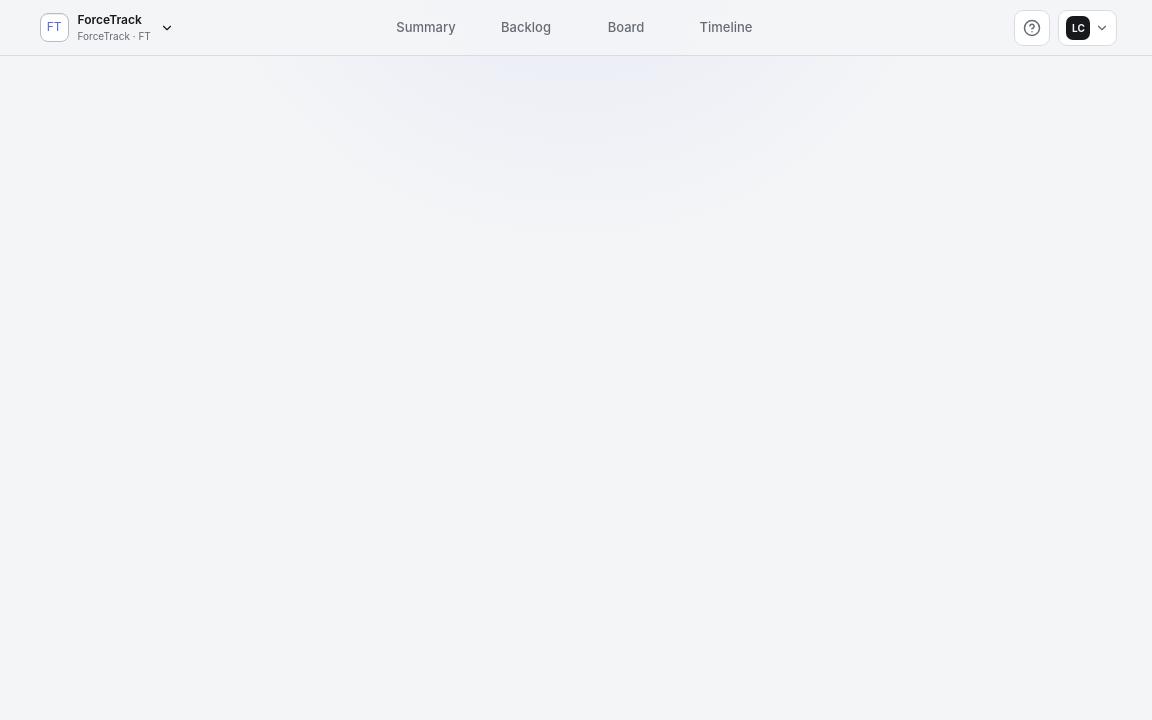
Test: App shell › navigates between Board and Timeline with an active link
Step 1. Click the link "Timeline" → [726, 27], box left=700, top=19, right=752, bottom=35
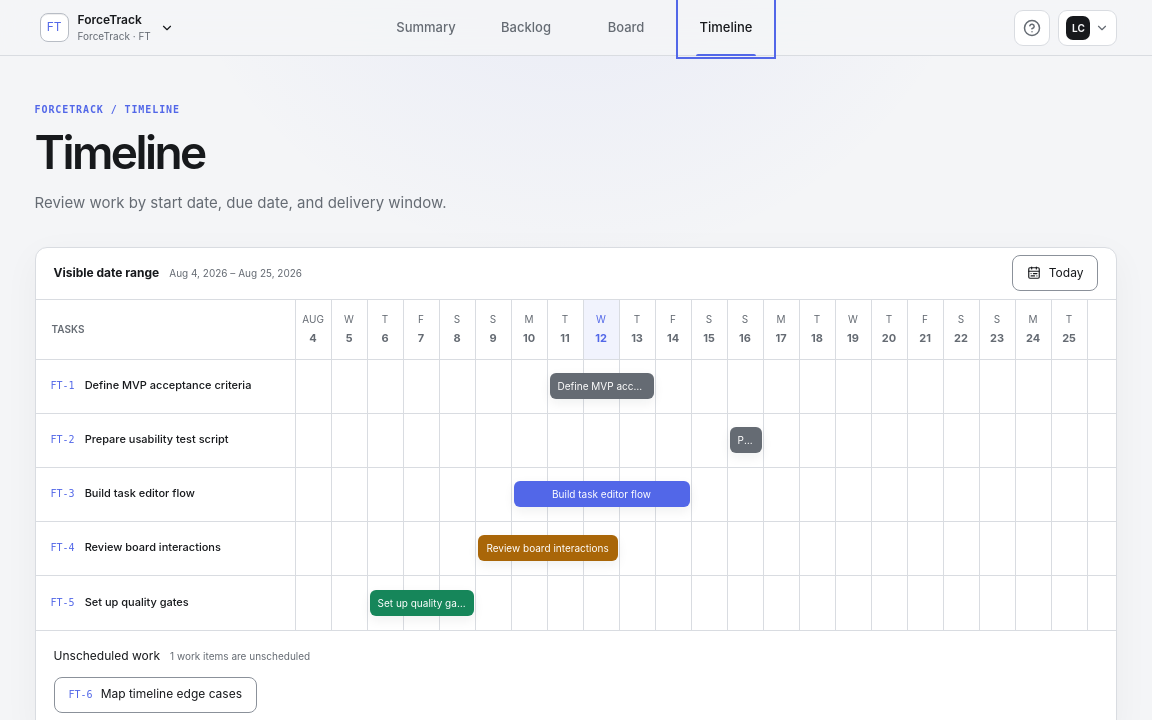
Result: the heading "Timeline" is shown at left=34, top=124, right=205, bottom=180
